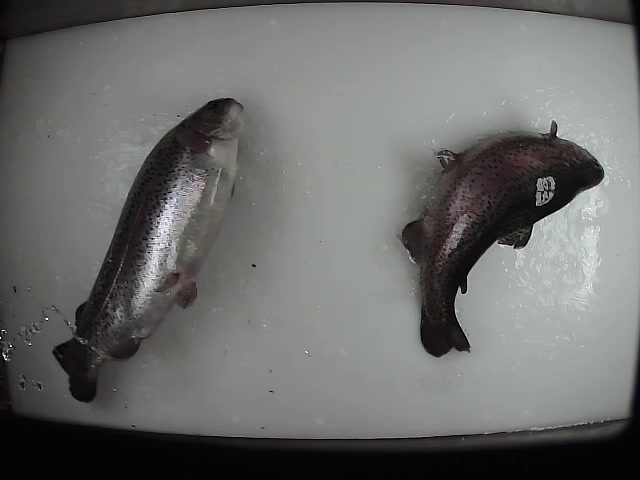Fish: (52, 97, 244, 402), (401, 120, 604, 357)
